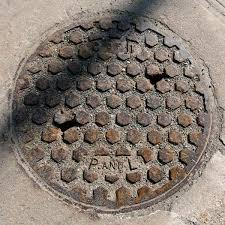closed manhole-not overflowing-: (8, 8, 217, 219)
